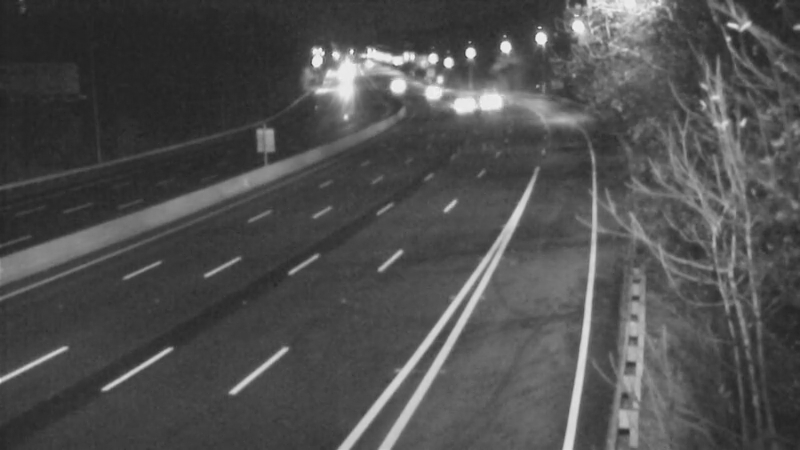vehicle: (373, 56, 423, 106), (405, 66, 455, 116), (432, 82, 482, 132), (459, 82, 509, 132)
